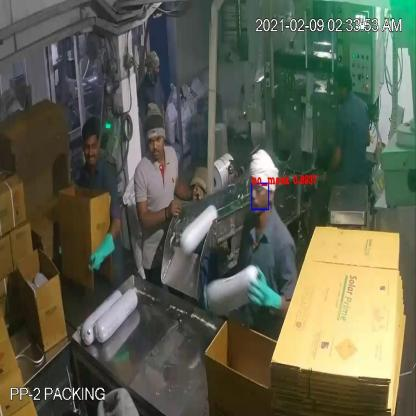glove: (239, 270, 288, 320), (81, 226, 120, 280)
no_glove: (136, 192, 187, 233), (170, 176, 204, 207), (320, 140, 344, 182)
